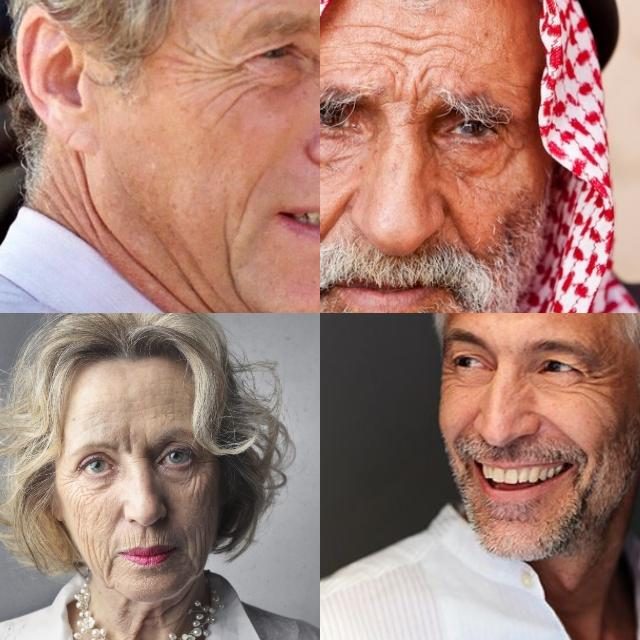crows_feet: (190, 50, 238, 94), (578, 365, 612, 401), (499, 128, 527, 164), (436, 362, 458, 396), (193, 456, 210, 484), (61, 468, 81, 487)
forehead: (377, 20, 433, 68), (228, 0, 263, 21), (86, 411, 108, 432)
frown_line: (389, 78, 426, 114), (124, 434, 138, 456)
gummy_smile: (320, 192, 353, 246), (233, 165, 259, 232), (441, 198, 469, 248), (533, 410, 573, 442), (450, 410, 480, 440)
masseter: (220, 250, 246, 310), (82, 537, 108, 573), (191, 530, 209, 568), (192, 489, 210, 516), (72, 495, 86, 527)
smoker_lines: (125, 532, 173, 544)
